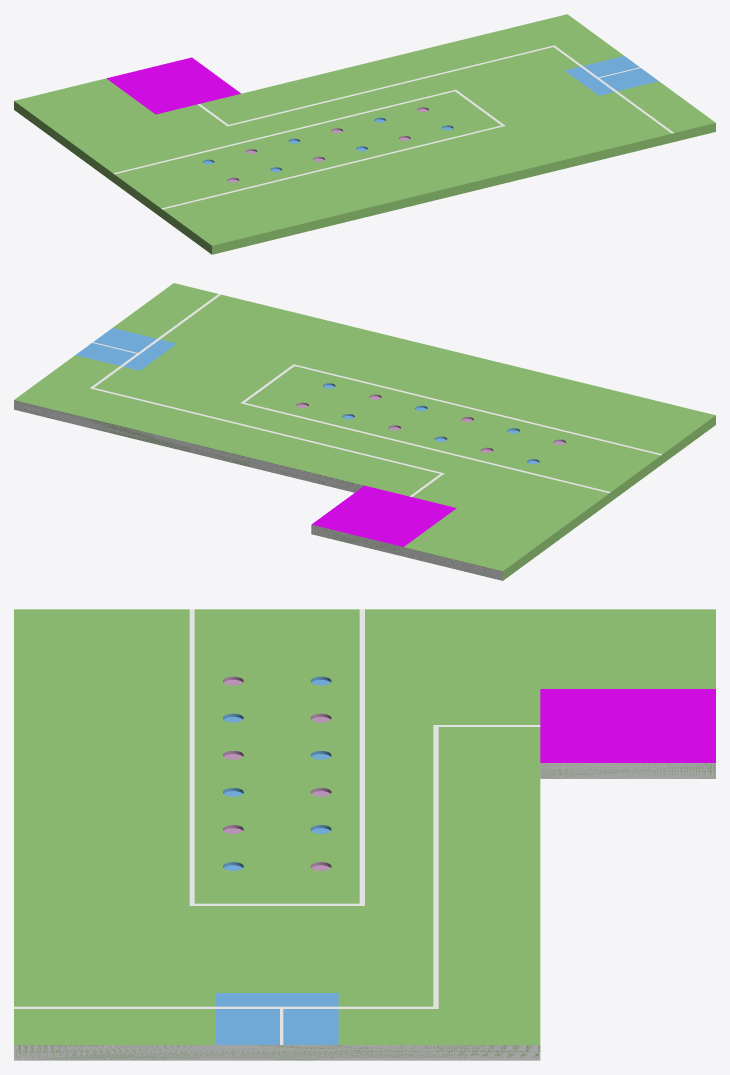
3 views of the same model, one above another, from view 1: azimuth 30°, elevation 25°; view 2: azimuth 150°, elevation 25°; view 3: azimuth 270°, elevation 25° (orthographic). The views are drawn at different scales.
Parts seen in each view (by area): view 1: instance_0, instance_0.001, instance_0.015, instance_0.002, instance_0.013, instance_0.016, instance_0.018; view 2: instance_0, instance_0.001, instance_0.015, instance_0.002, instance_0.013, instance_0.016, instance_0.018; view 3: instance_0, instance_0.001, instance_0.015, instance_0.002, instance_0.013, instance_0.016, instance_0.018.
Part boxes in pixels (x1,y1,x2,y2): instance_0: (14, 14, 715, 254); instance_0.001: (106, 57, 240, 114); instance_0.015: (113, 89, 505, 209); instance_0.002: (197, 45, 673, 133); instance_0.013: (599, 68, 658, 91); instance_0.016: (583, 56, 639, 77); instance_0.018: (564, 66, 614, 95); instance_0: (14, 283, 715, 580); instance_0.001: (312, 485, 456, 546); instance_0.015: (240, 364, 661, 493); instance_0.002: (90, 294, 444, 496); instance_0.013: (93, 328, 156, 352); instance_0.016: (75, 343, 136, 365); instance_0.018: (123, 339, 176, 370); instance_0: (14, 609, 715, 1060); instance_0.001: (540, 689, 715, 762); instance_0.015: (189, 609, 364, 905); instance_0.002: (14, 725, 540, 1044); instance_0.013: (215, 1009, 279, 1044); instance_0.016: (283, 1009, 338, 1044); instance_0.018: (215, 993, 338, 1006).
Bounding box in the file's own units: 5.87 × 4 × 0.1.
